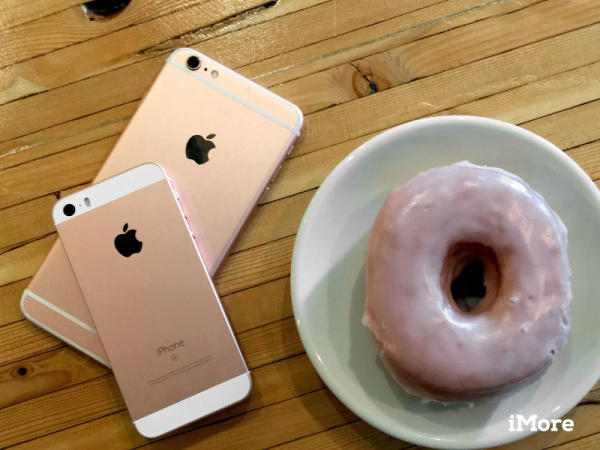apple: (104, 214, 151, 267), (175, 126, 227, 169)
